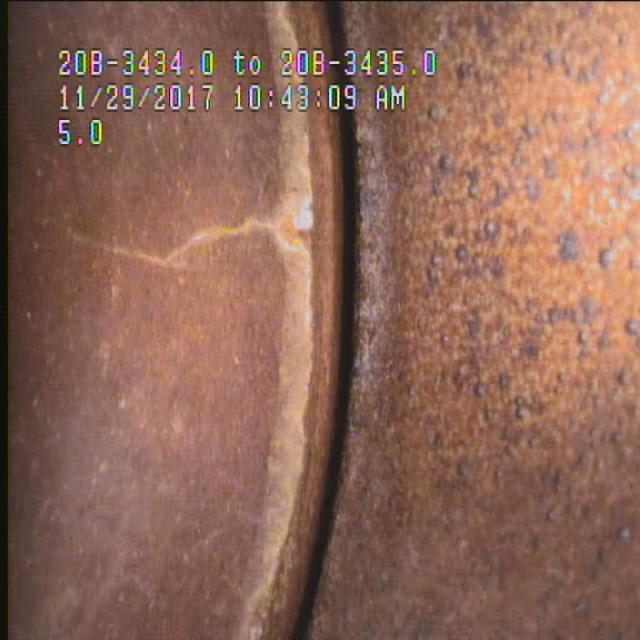Crack: (50, 178, 311, 330)
